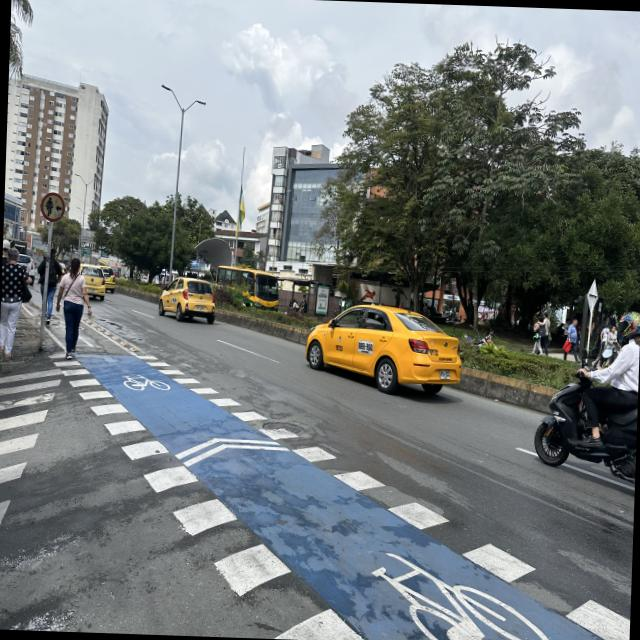number plate: (439, 369, 450, 379), (196, 305, 204, 311)
